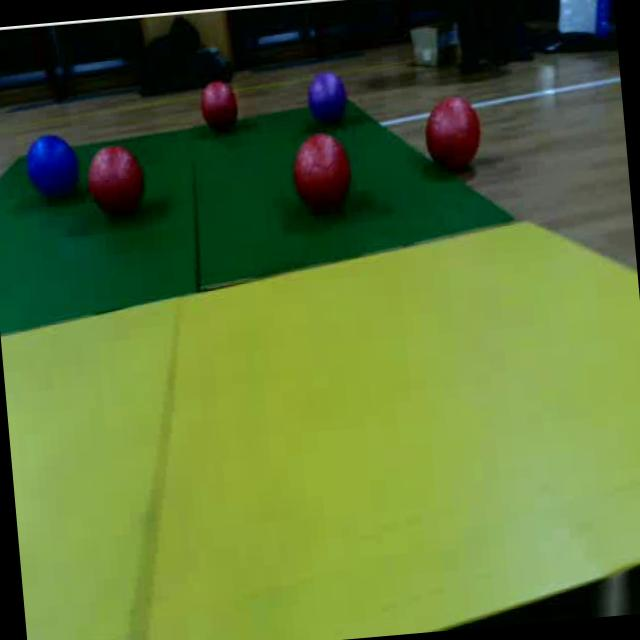blue_ball: (26, 130, 82, 207)
purple_ball: (302, 68, 350, 128)
red_ball: (288, 130, 357, 222), (82, 140, 150, 223), (421, 91, 484, 180), (196, 78, 242, 140)
